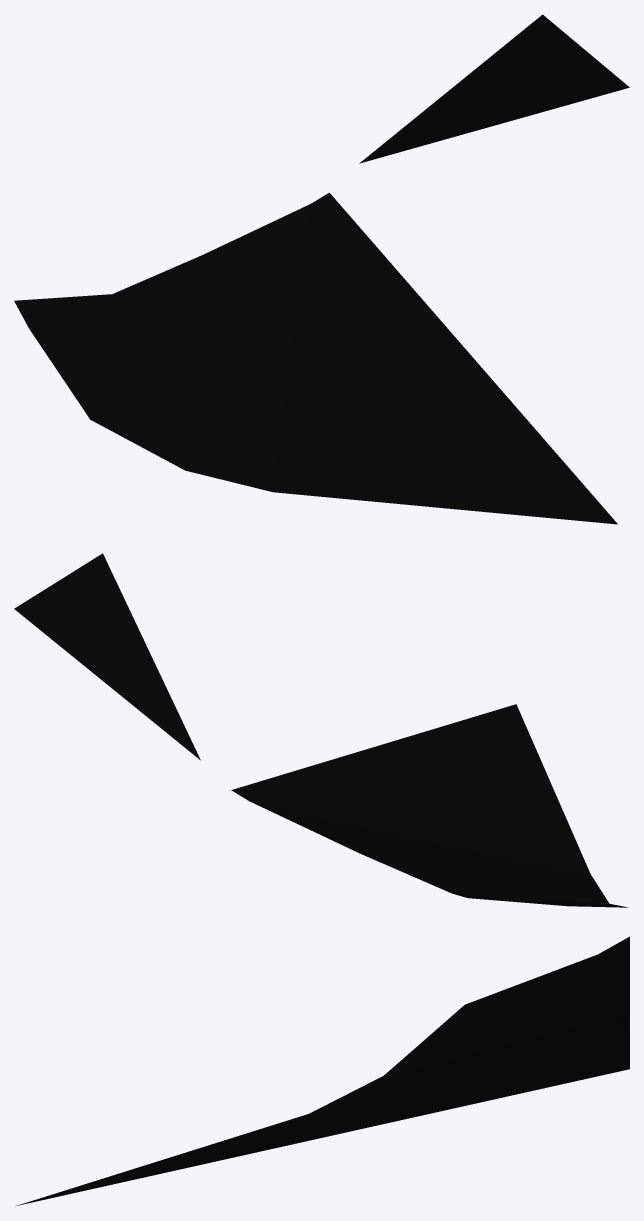
3 views of the same model, one above another, from view 1: azimuth 30°, elevation 25°; view 2: azimuth 150°, elevation 25°; view 3: azimuth 270°, elevation 25° (orthographic). The views are drawn at different scales.
Size of the model in its own units: 3.35 by 1.62 by 3.12.
Materials: 2 (2 with a texture image).
